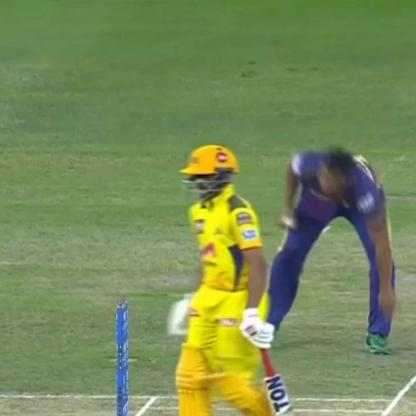ball: (274, 214, 302, 231)
